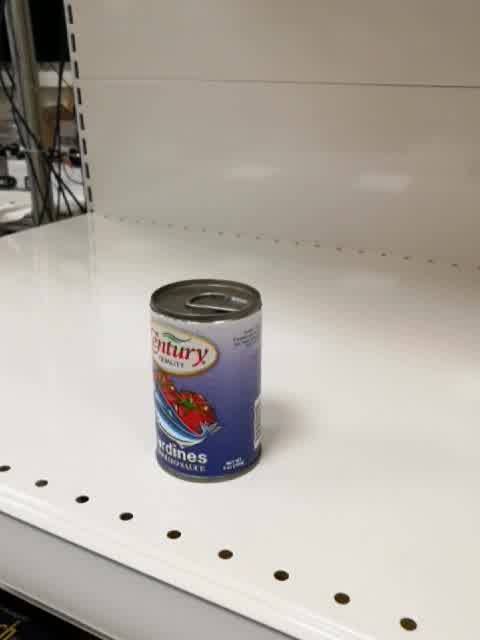sardine: (149, 275, 265, 483)
